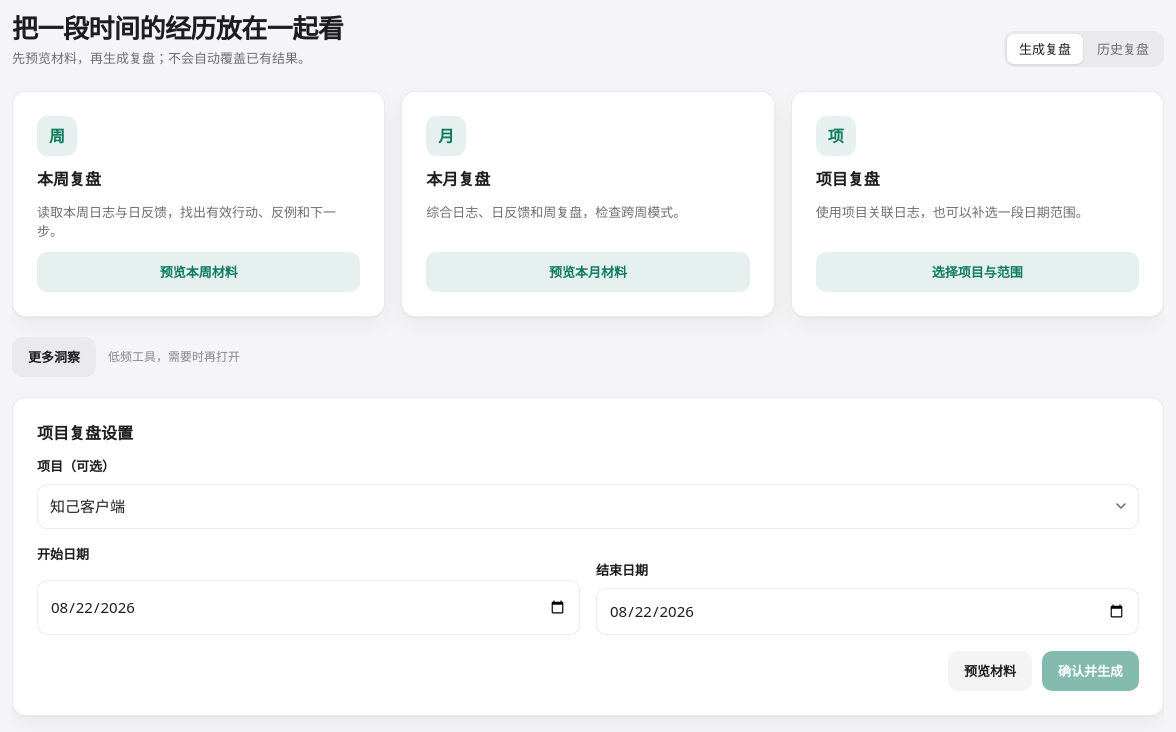
ReviewsPage › applies weekly and project navigation intents and keeps review history in this page
This screenshot has width=1176, height=732.
expect the heading named "本周复盘设置" is shown: met, box [37,422,133,444]
expect the dropdown labelled "项目（可选）" shows "知己客户端": met, box [37,484,1139,529]
Click the button "历史复盘": point(1123, 49) [1085,34,1161,64]
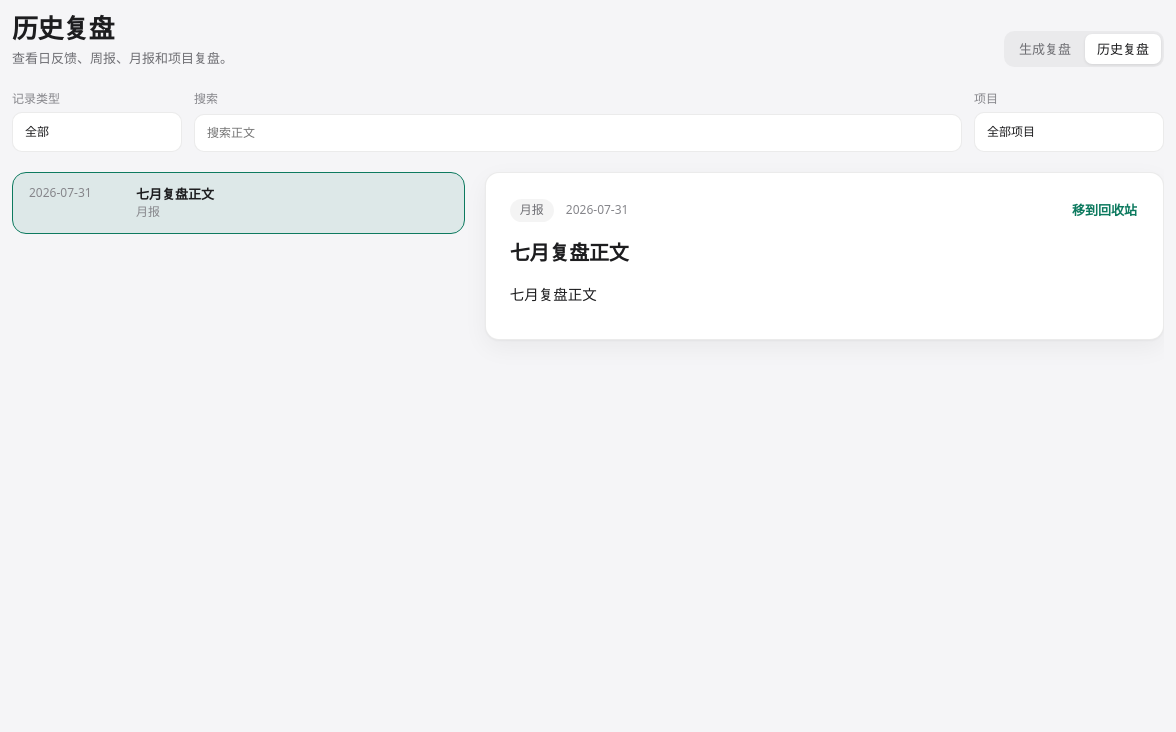
expect the 2nd text "七月复盘正文" is shown: met, box [510,284,597,304]
